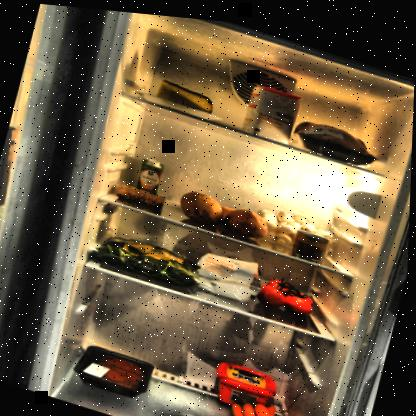beef: (73, 337, 158, 400)
butter: (212, 352, 284, 412)
carrot: (225, 386, 318, 415)
cheese: (150, 73, 220, 114)
chicken: (290, 108, 386, 168)
corn: (292, 223, 331, 258)
heavy_cream: (134, 152, 167, 201)
mushrooms: (251, 196, 341, 255)
shrimp: (111, 176, 171, 208)
spinach: (94, 225, 210, 290)
sweet_potato: (176, 177, 277, 243)
tomato: (254, 264, 320, 315)
